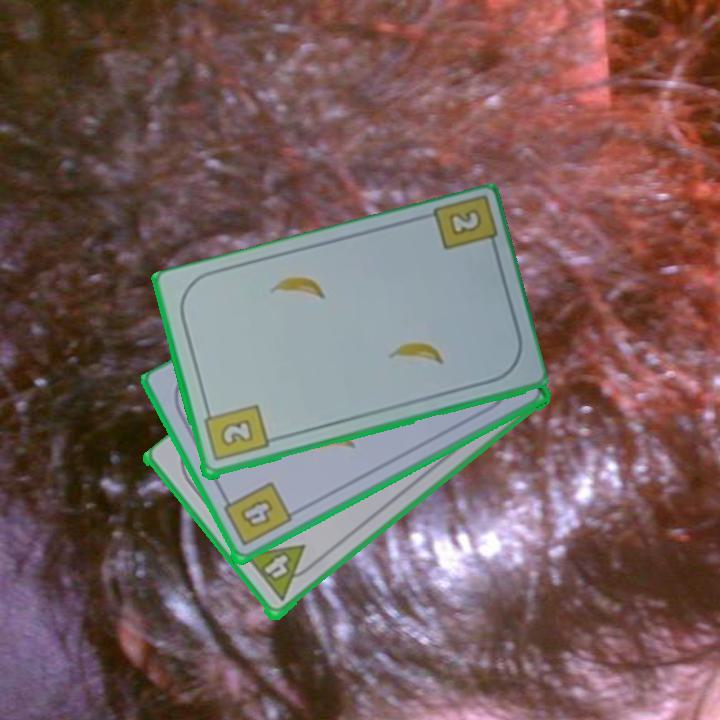2b: (427, 195, 501, 259), (200, 401, 271, 465)
4b: (218, 479, 294, 550)
4p: (245, 541, 305, 586)
